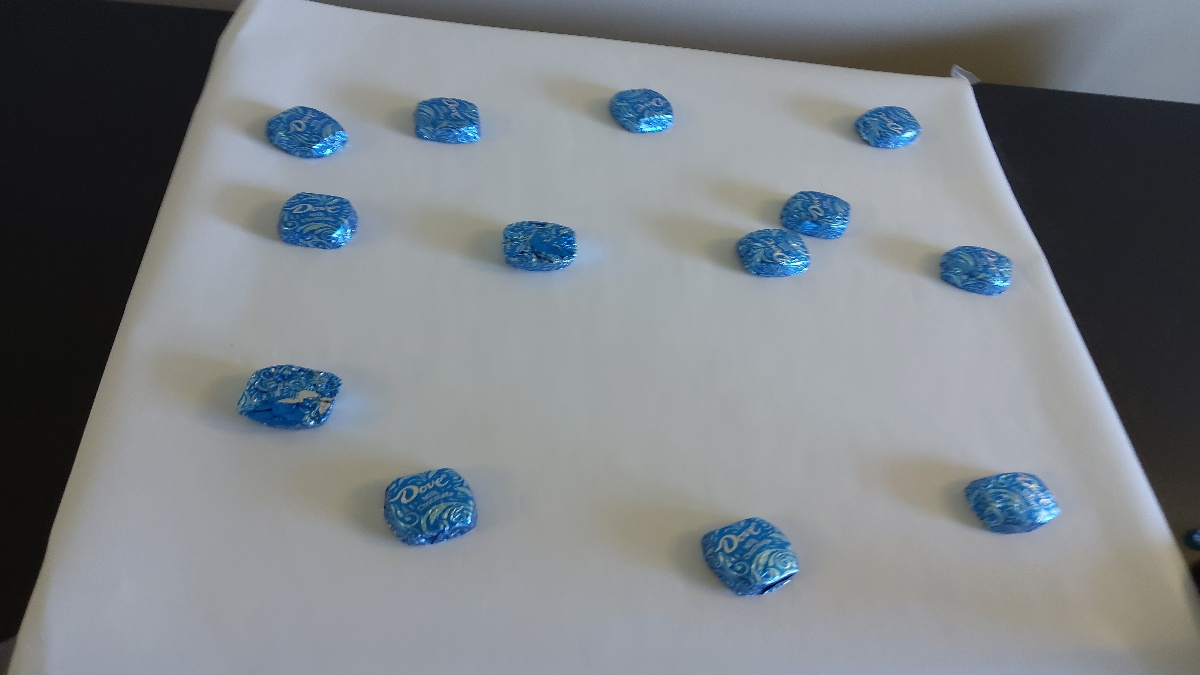chocolate_blue: (373, 461, 484, 554), (953, 461, 1063, 547), (702, 512, 801, 606), (235, 363, 353, 439), (257, 98, 356, 167), (929, 234, 1019, 307), (269, 187, 360, 254), (491, 213, 583, 279), (404, 87, 491, 152), (732, 223, 809, 294), (771, 184, 860, 244), (846, 100, 925, 156), (604, 83, 676, 139)
